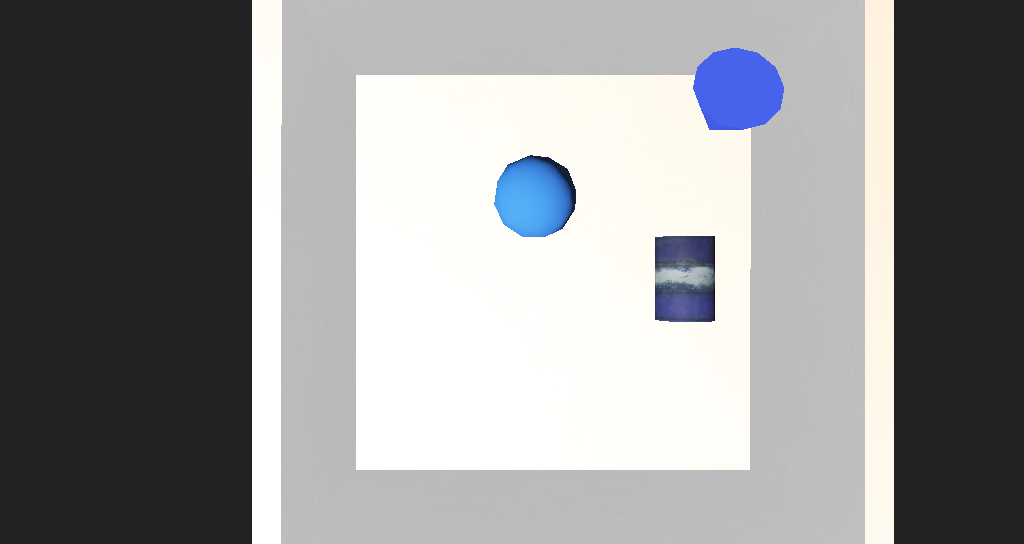cone: (583, 248, 630, 296)
cylinder: (596, 150, 670, 212)
sphere: (461, 208, 522, 251)
